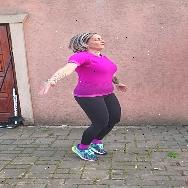jumping_jacks: (32, 26, 138, 168)
